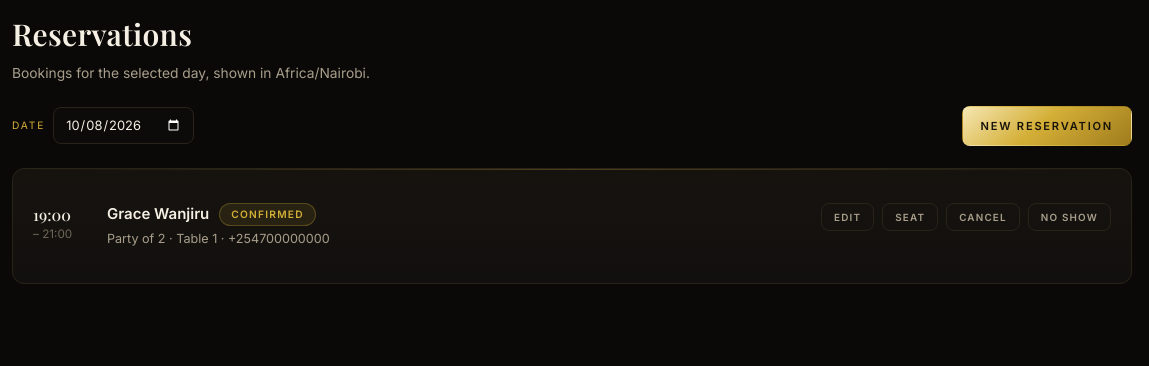
Test case: reservation status transitions › reports a failed status change without losing the day
The image size is (1149, 366).
Step 1. Click the button "Seat" → (910, 217), box [882,203,938,231]
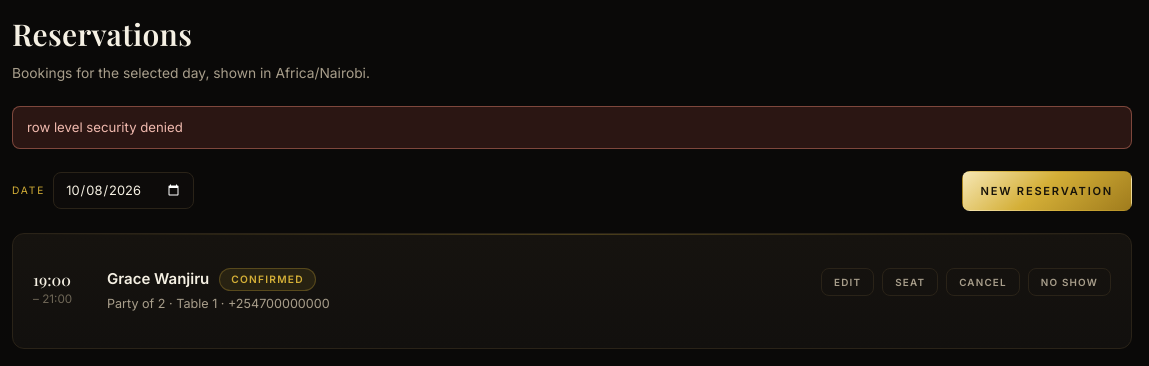
Expected: the text "Grace Wanjiru" is shown, [107,268,209,291]
Expected: the text "row level security denied" is shown, [12,106,1132,149]
